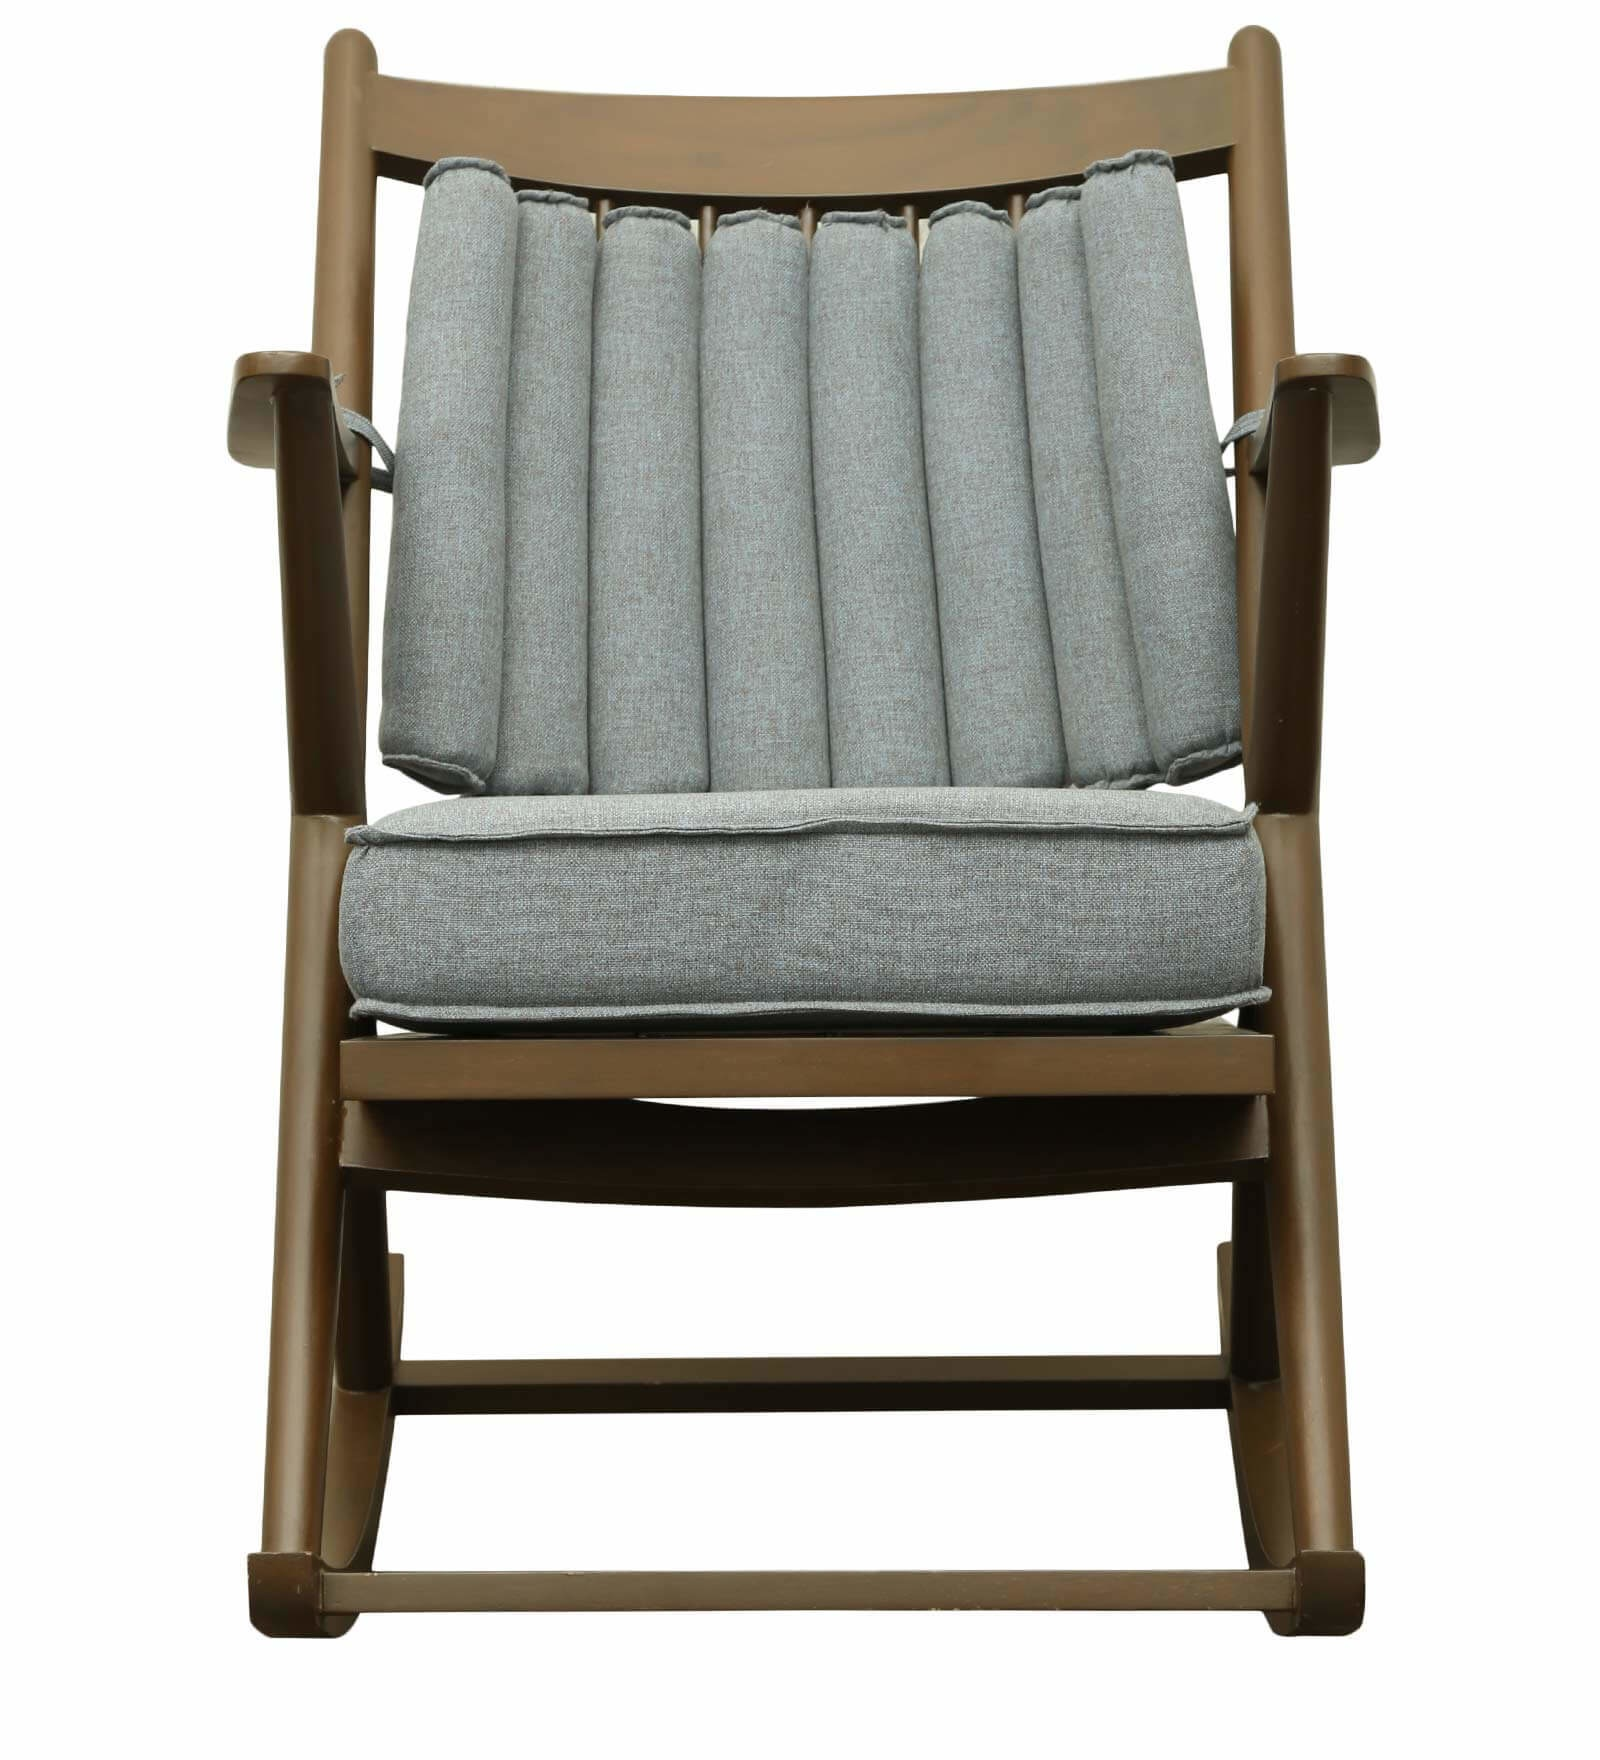Standard Rocking Chair in Grey & Brown Colour Combo by INDOORS: (218, 2, 1419, 1716)
